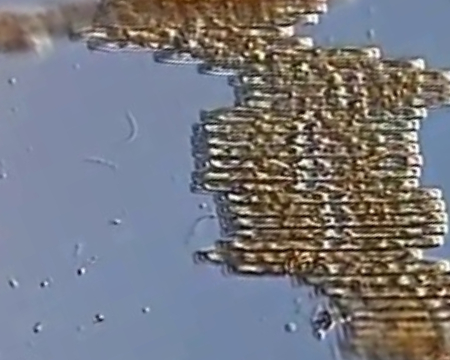fil: (191, 140, 423, 154), (87, 36, 314, 50), (209, 198, 448, 211), (216, 235, 450, 248), (234, 86, 450, 100), (194, 156, 424, 169), (200, 108, 429, 121), (226, 73, 450, 86), (193, 119, 424, 131), (223, 261, 449, 273), (191, 169, 427, 180), (217, 225, 450, 236), (195, 62, 425, 73), (154, 51, 393, 61), (234, 97, 450, 108), (217, 216, 450, 226), (191, 132, 422, 142), (213, 190, 444, 200), (195, 249, 424, 258), (74, 27, 296, 36), (293, 275, 450, 286), (188, 180, 423, 187), (327, 297, 449, 310), (313, 285, 450, 294), (339, 313, 450, 324), (338, 326, 450, 336)
